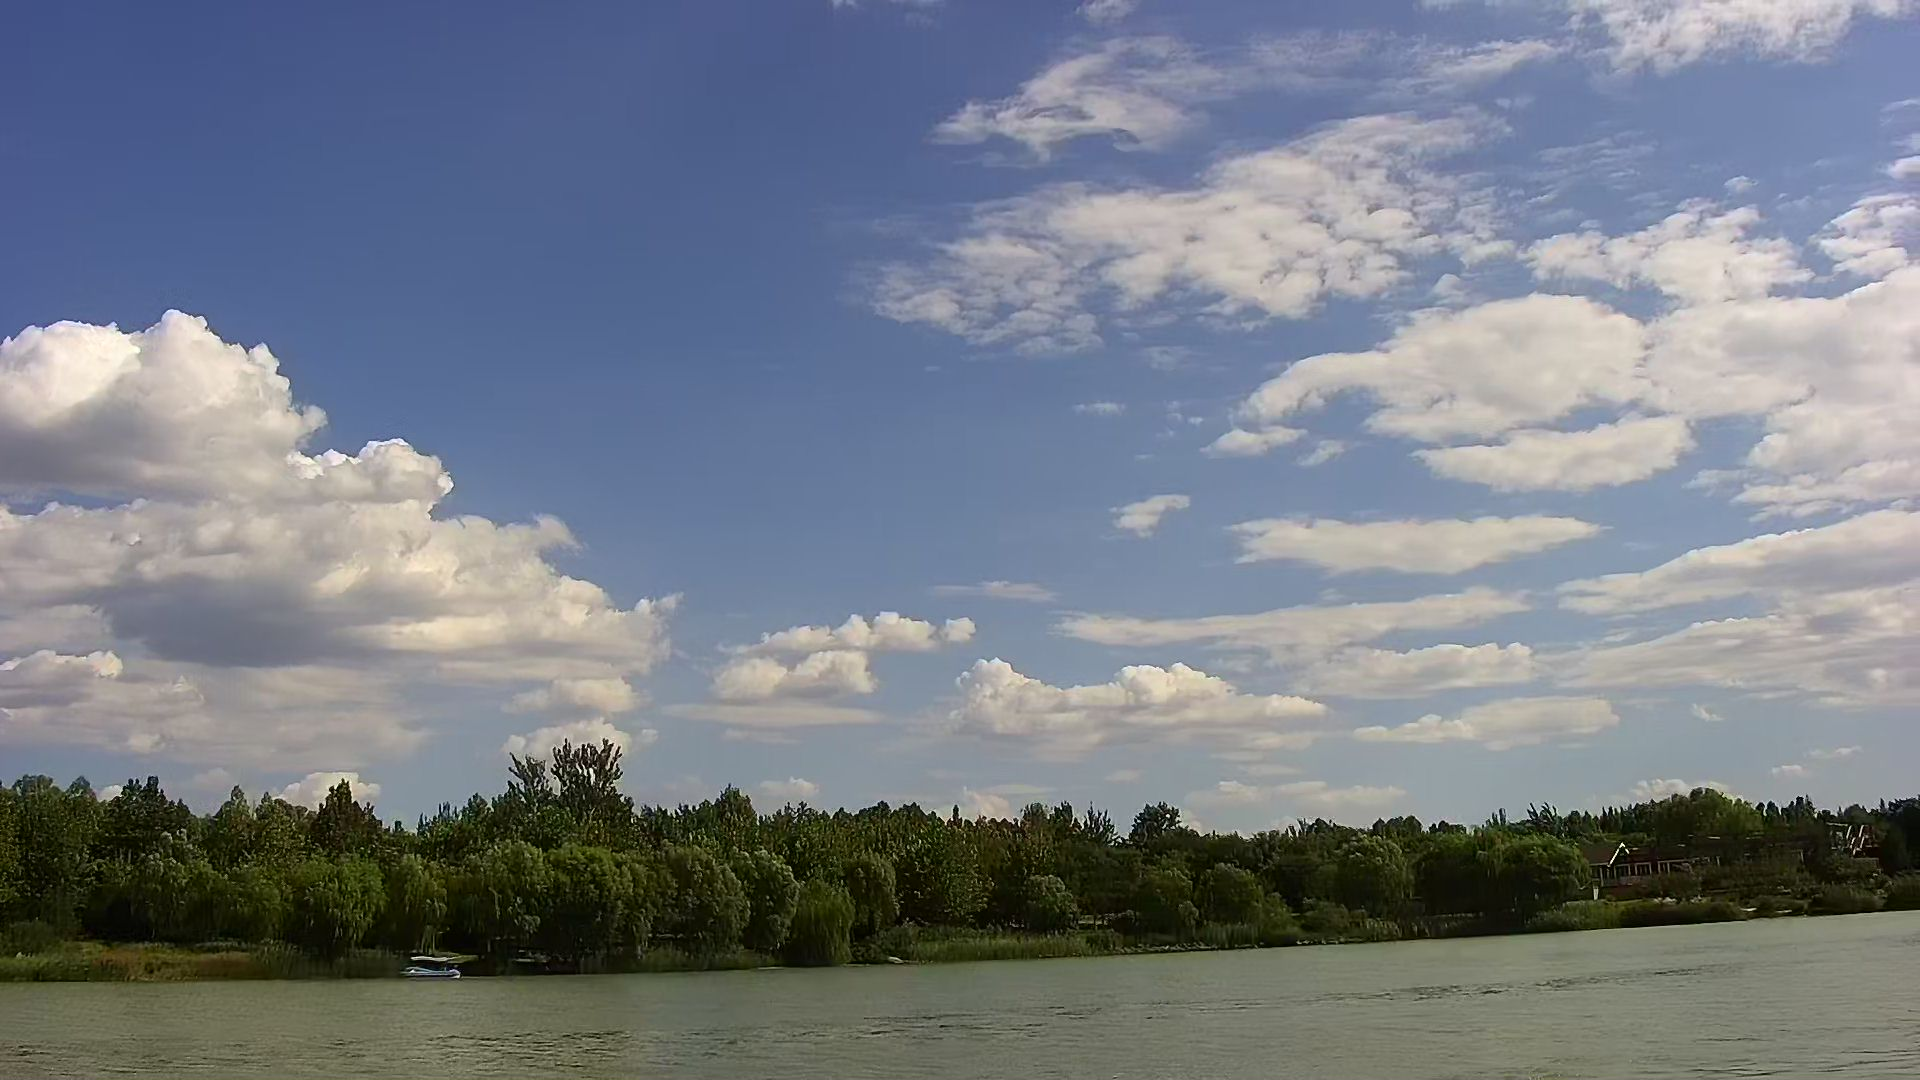boat: (400, 951, 463, 984)
